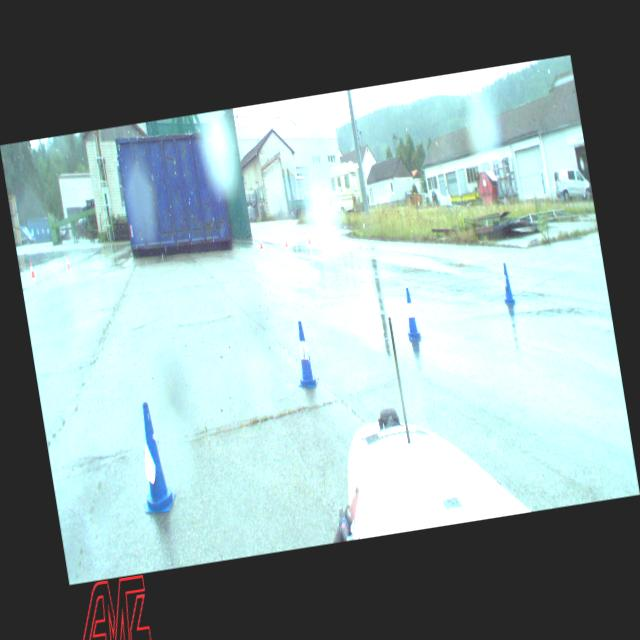blue_cone: (130, 401, 178, 514), (290, 320, 319, 390), (399, 288, 422, 340), (499, 263, 516, 305)
orange_cone: (64, 253, 72, 270), (29, 262, 35, 278), (306, 230, 312, 243), (258, 236, 264, 248), (329, 228, 334, 241), (284, 234, 288, 248)
